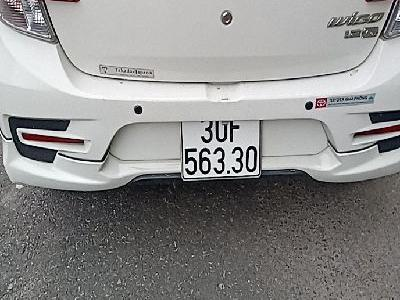car: (180, 119, 263, 179)
